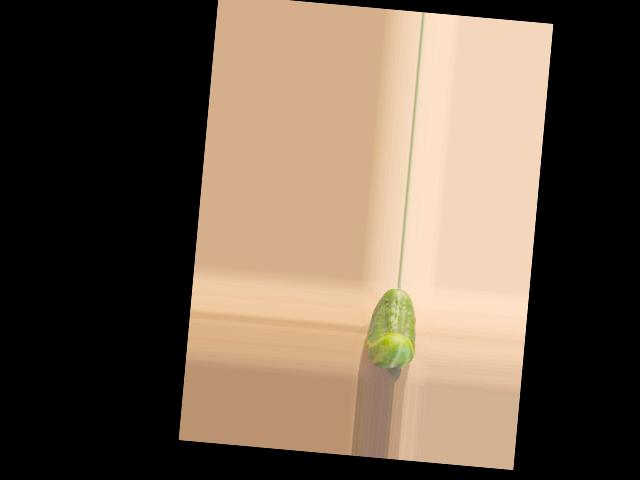cucumber: (364, 286, 420, 370)
